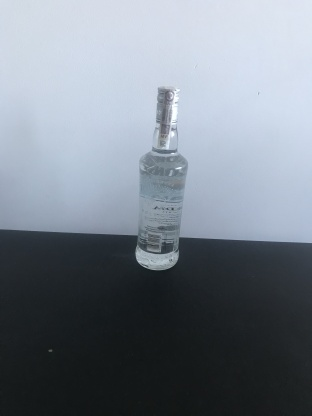nakretka: (153, 82, 182, 127)
